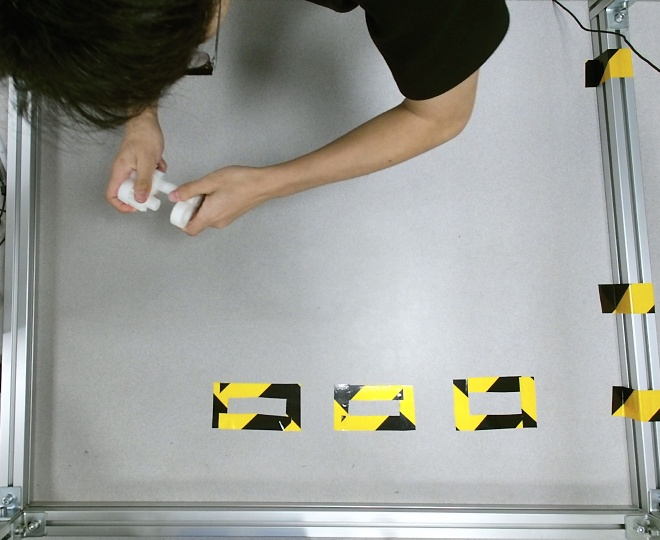stage_3: (119, 167, 199, 211)
